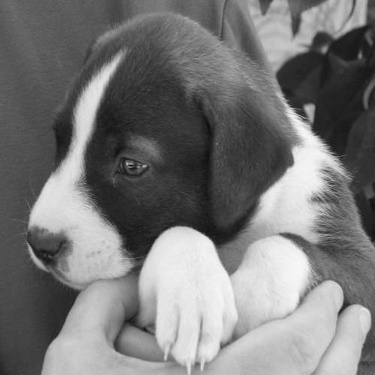dog: (20, 5, 372, 374)
